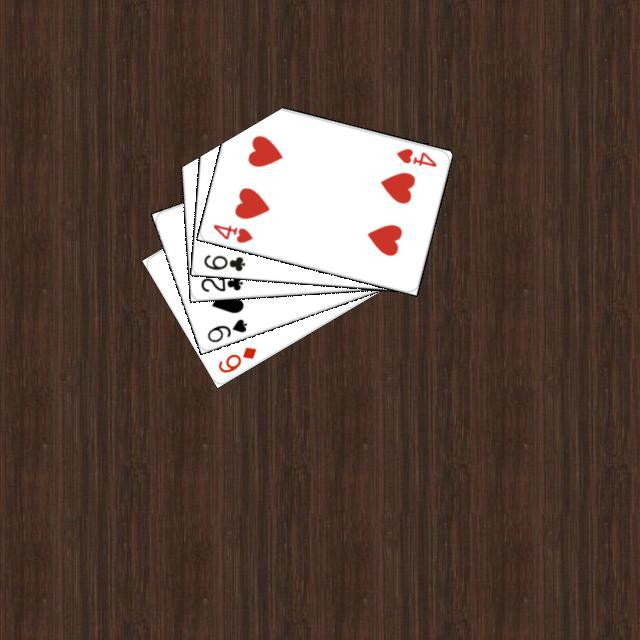2c: (196, 271, 245, 294)
4h: (208, 219, 254, 245), (391, 143, 438, 168)
6c: (199, 250, 247, 273)
6d: (213, 342, 258, 375)
9s: (202, 314, 249, 344)
